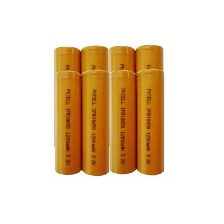battery: (131, 65, 168, 177), (50, 69, 84, 177), (79, 67, 111, 179), (104, 41, 136, 149), (50, 42, 80, 152), (108, 68, 138, 176), (80, 40, 109, 151), (136, 43, 165, 147)
